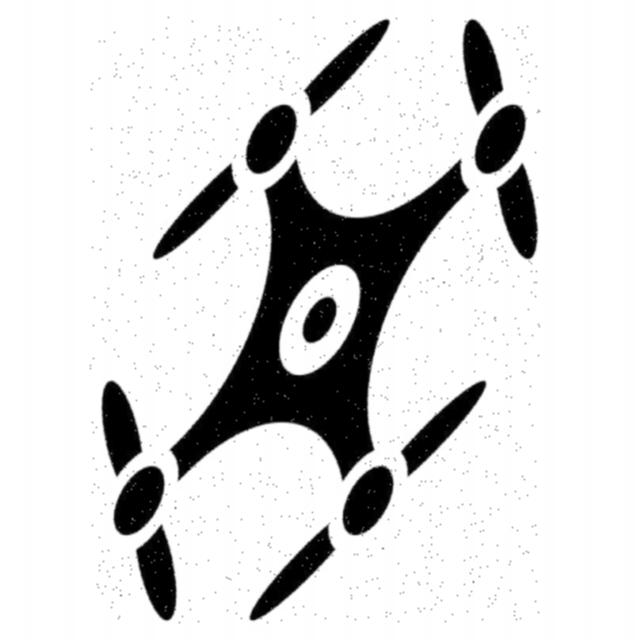drone: (91, 18, 541, 625)
